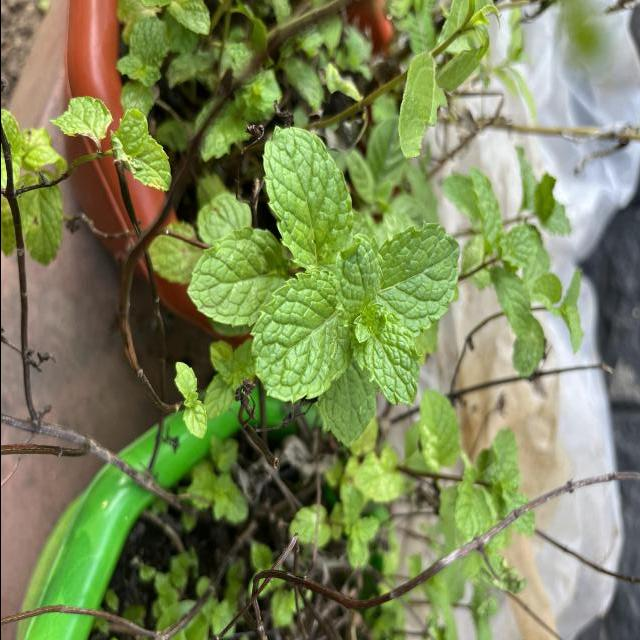Mentha spicata: (248, 269, 352, 406), (259, 124, 353, 271), (378, 219, 460, 340), (185, 226, 282, 328), (349, 306, 422, 408)
